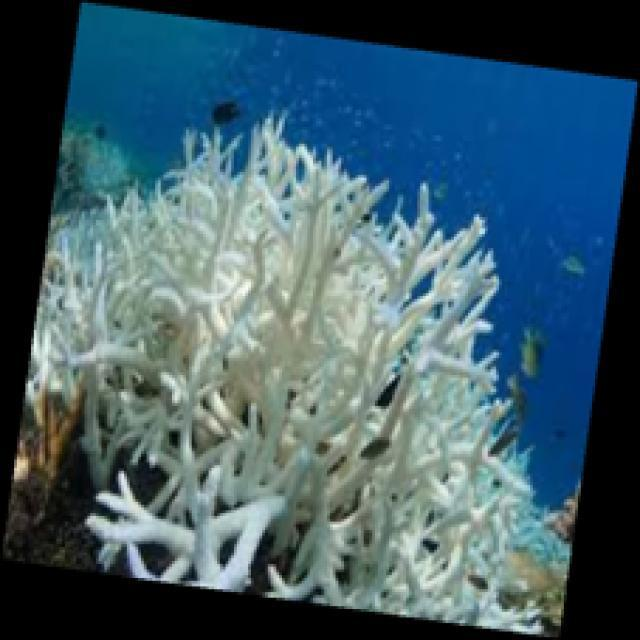Bleached: (26, 115, 546, 637), (85, 473, 293, 593)
